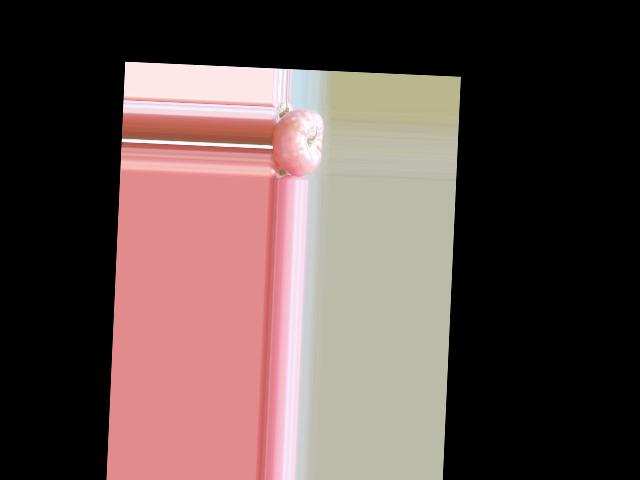tomato: (270, 107, 324, 178)
